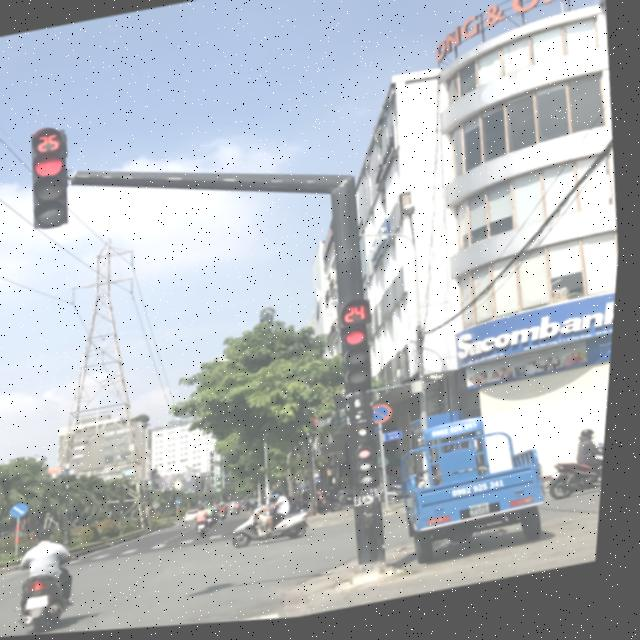Red: (27, 151, 81, 235), (337, 326, 387, 397)
